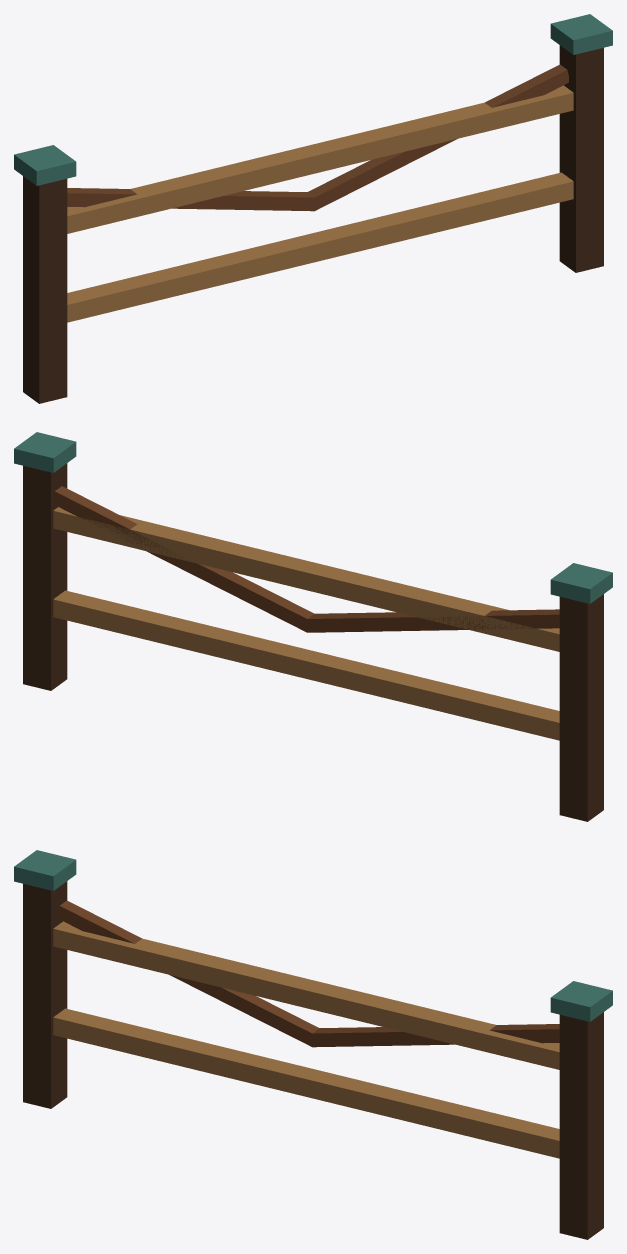
Rendered from Desert_RailFence_Showcase.glb.
The picture shows the model from 3 angles, top to bottom: view 1: azimuth 30°, elevation 25°; view 2: azimuth 150°, elevation 25°; view 3: azimuth 330°, elevation 25°; orthographic projection.
Visible parts, largest first — view 1: Desert_RailFence_Showcase; view 2: Desert_RailFence_Showcase; view 3: Desert_RailFence_Showcase.
Part boxes in pixels (x1=…): Desert_RailFence_Showcase: x1=14, y1=14, x2=612, y2=403; Desert_RailFence_Showcase: x1=14, y1=432, x2=612, y2=821; Desert_RailFence_Showcase: x1=14, y1=850, x2=612, y2=1239.
Size of the model in its own units: 4.08 by 1.6 by 0.28.
